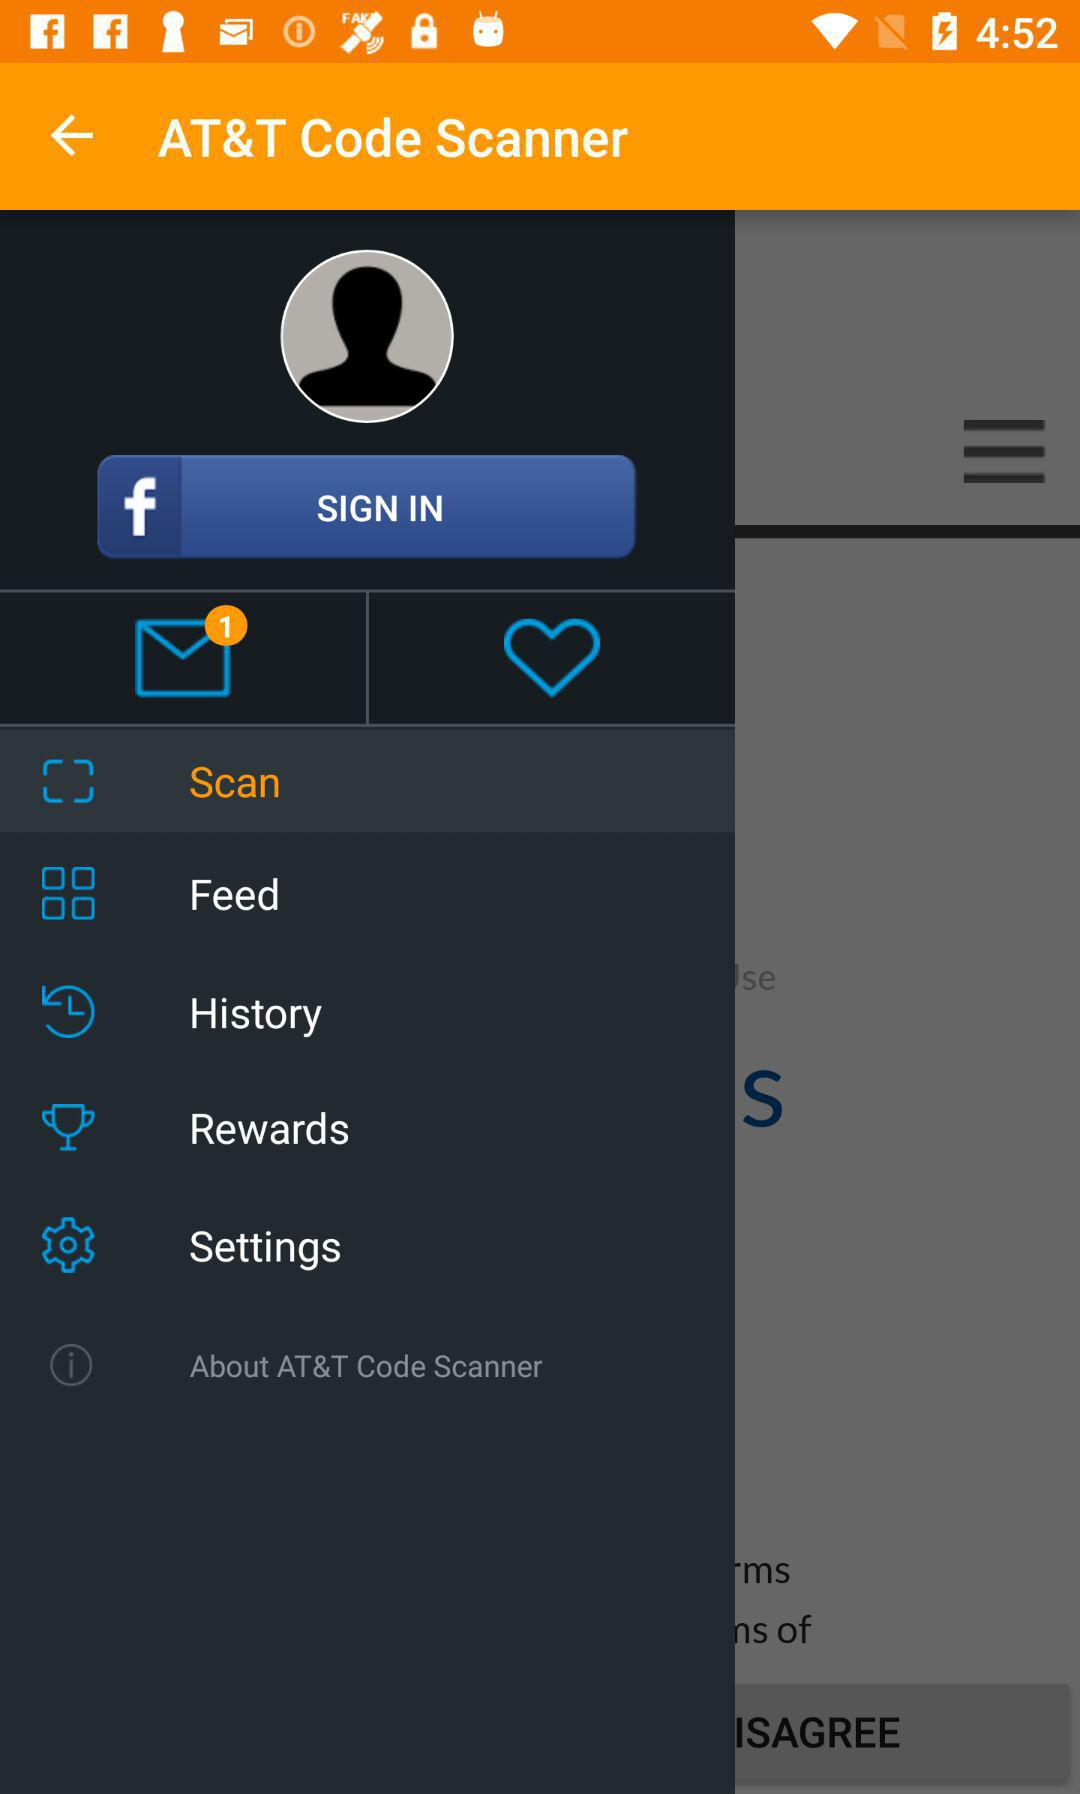Drawer: (1, 211, 735, 1793)
Icon: (281, 250, 455, 425), (135, 604, 250, 698), (503, 618, 602, 700), (961, 419, 1045, 486), (42, 1216, 97, 1275), (41, 866, 97, 923), (41, 983, 96, 1039), (50, 114, 95, 159), (49, 1343, 94, 1387)
Image: (41, 1103, 97, 1153), (42, 759, 96, 805)
Text: (156, 117, 630, 161), (190, 1353, 543, 1379), (190, 1230, 342, 1272), (192, 996, 324, 1039), (191, 1111, 350, 1146), (191, 876, 281, 912), (190, 766, 281, 800)
TextButton: (97, 455, 637, 561)
Toolbar: (1, 64, 1080, 210)
UpperTaskBar: (1, 1, 1080, 64)
